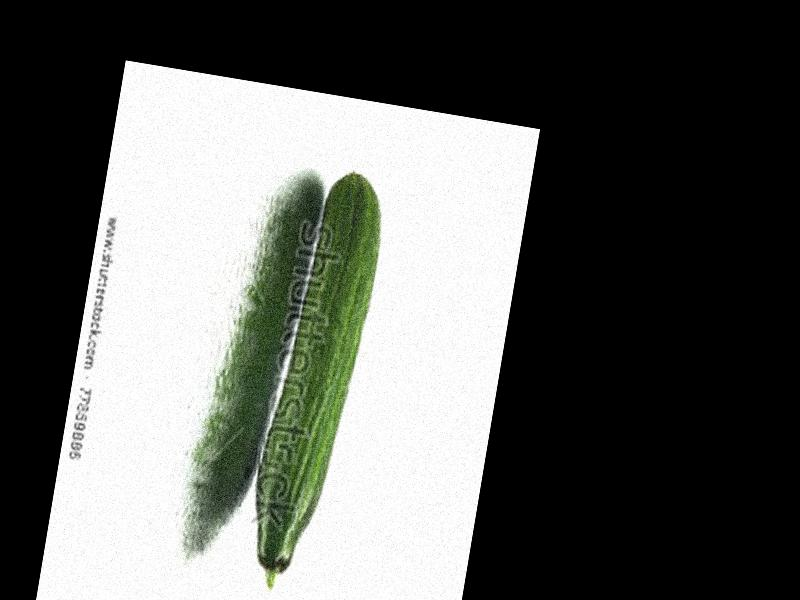Cucumber: (239, 168, 392, 596)
